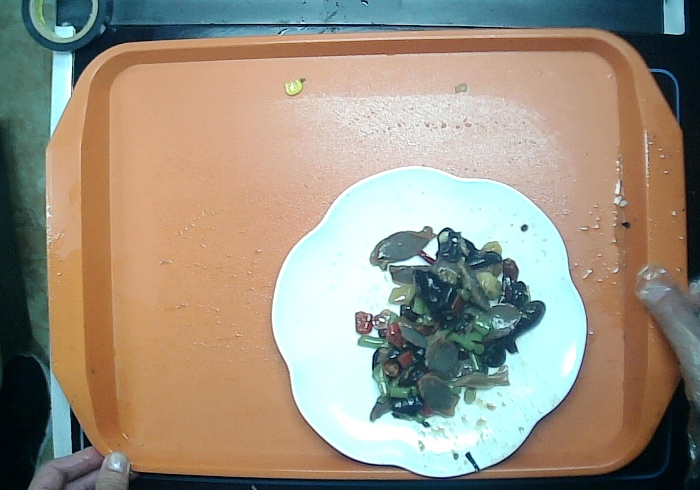HZYJPL-Bai_Se_Hua_Duo_Wan: (266, 158, 593, 482)
